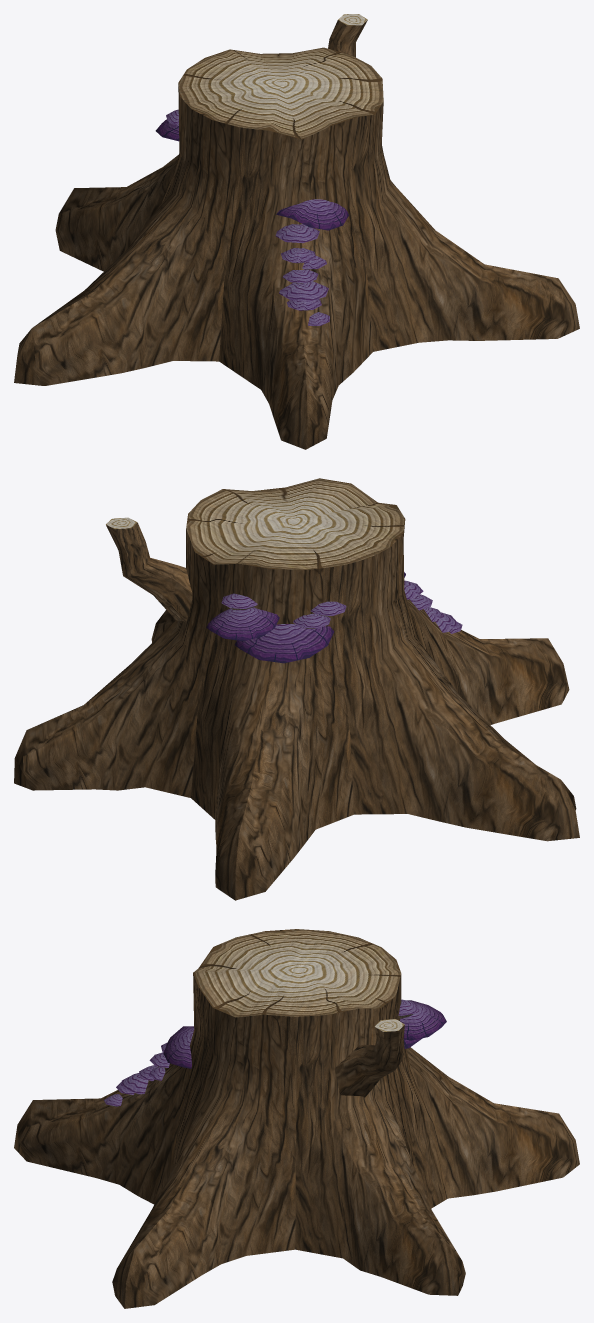
Rendered from TreeTrunk.obj.
The picture shows the model from 3 angles, top to bottom: view 1: azimuth 30°, elevation 25°; view 2: azimuth 150°, elevation 25°; view 3: azimuth 270°, elevation 25°; orthographic projection. The views are drawn at different scales.
Visible parts, largest first — view 1: Mesh; view 2: Mesh; view 3: Mesh.
Part boxes in pixels (<box>): Mesh: <box>14,14,579,449</box>; Mesh: <box>14,478,579,900</box>; Mesh: <box>14,929,579,1308</box>.
Bounding box in the file's own units: 4.5 × 2.12 × 4.57.
